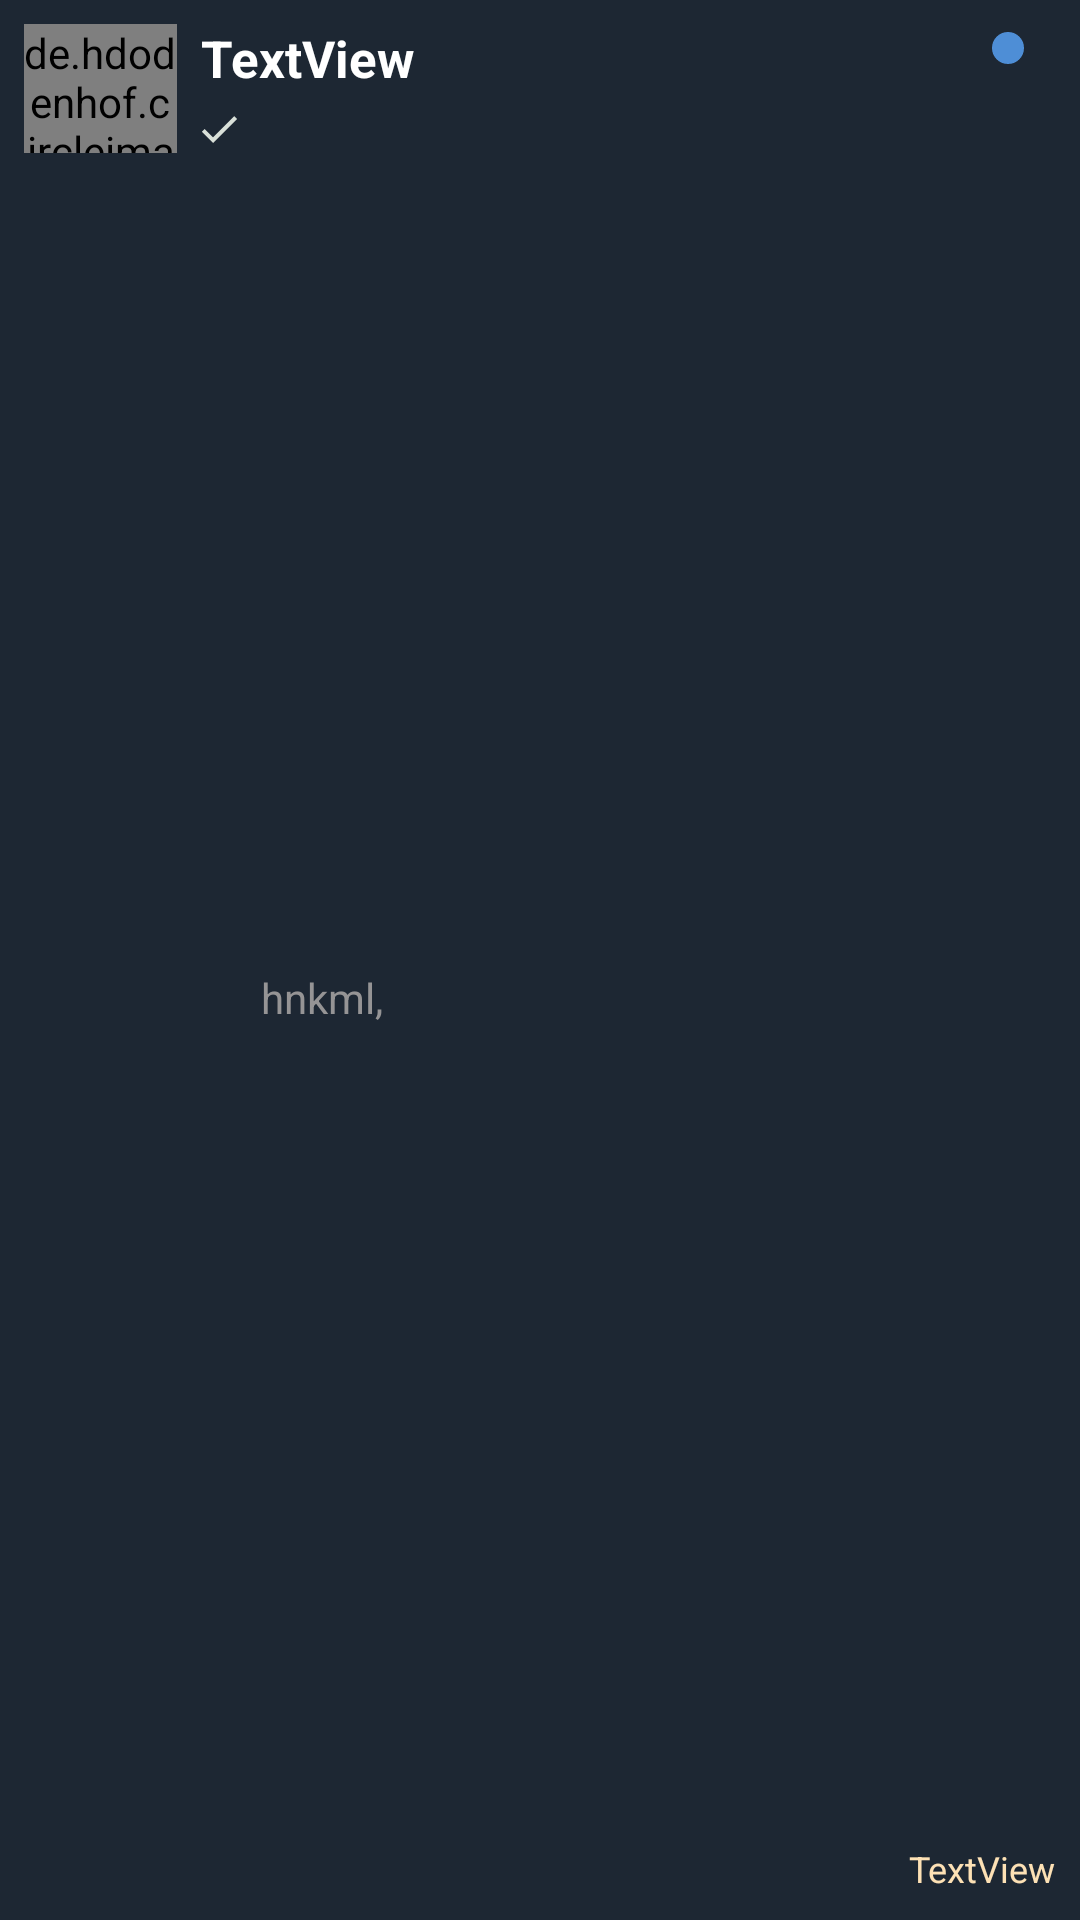

Screen size 1080px x 1920px. Icon name, then its center in pixels as [x,y]:
done: [219,129]
not read: [1008,48]
